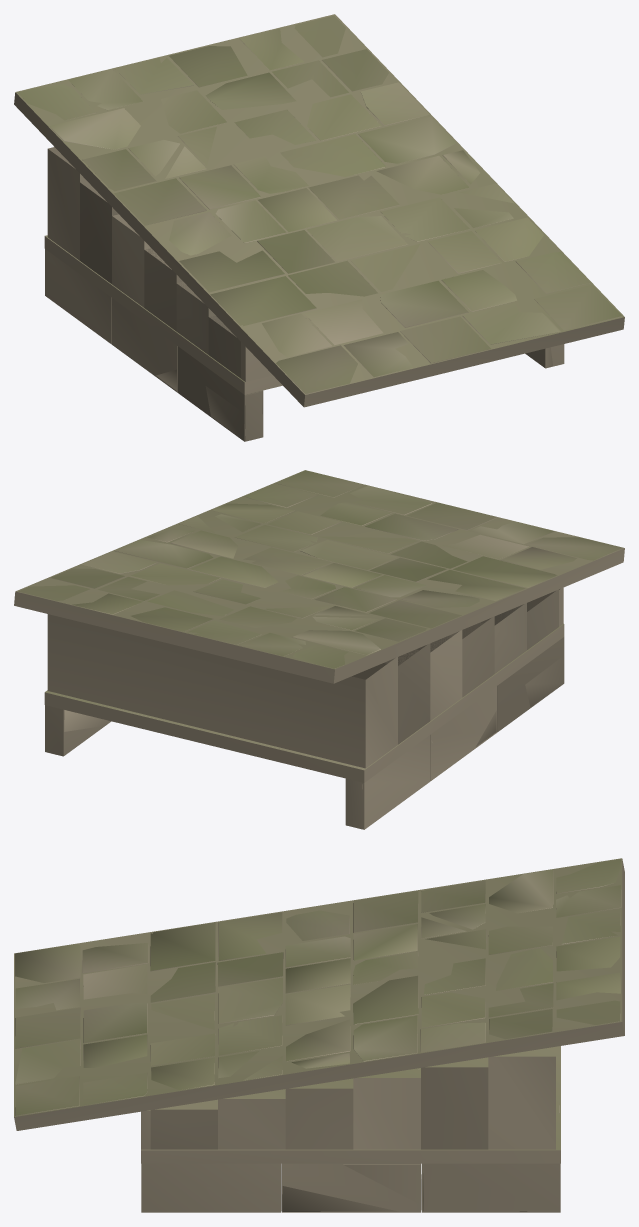
The model's file is agora_stoa_roof.glb.
3 renders of one model, top to bottom at view 1: azimuth 30°, elevation 25°; view 2: azimuth 150°, elevation 25°; view 3: azimuth 270°, elevation 25°, orthographic. The views are drawn at different scales.
Visible parts, largest first — view 1: agora_stoa_roof, agora_stoa_roof_far; view 2: agora_stoa_roof, agora_stoa_roof_far; view 3: agora_stoa_roof, agora_stoa_roof_far.
Part boxes in pixels (x1,y1,x2,y2): agora_stoa_roof: (17, 15, 622, 440); agora_stoa_roof_far: (14, 14, 624, 441); agora_stoa_roof: (18, 470, 622, 826); agora_stoa_roof_far: (14, 470, 624, 829); agora_stoa_roof: (15, 859, 621, 1212); agora_stoa_roof_far: (14, 858, 624, 1212).
Bounding box in the file's own units: 18.51 × 10.08 × 29.18.
